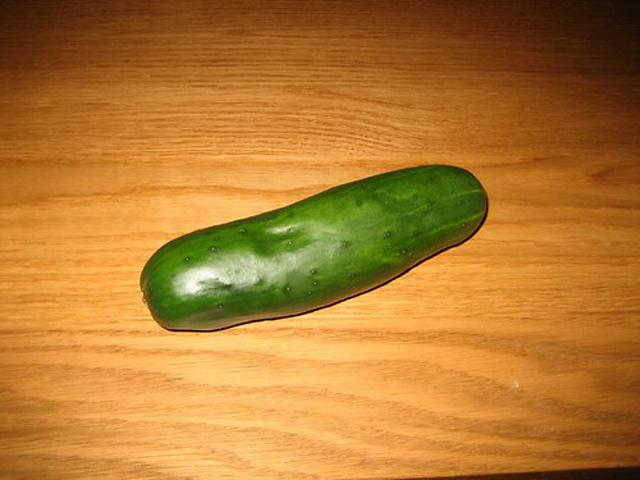cucumber: (145, 166, 489, 332)
